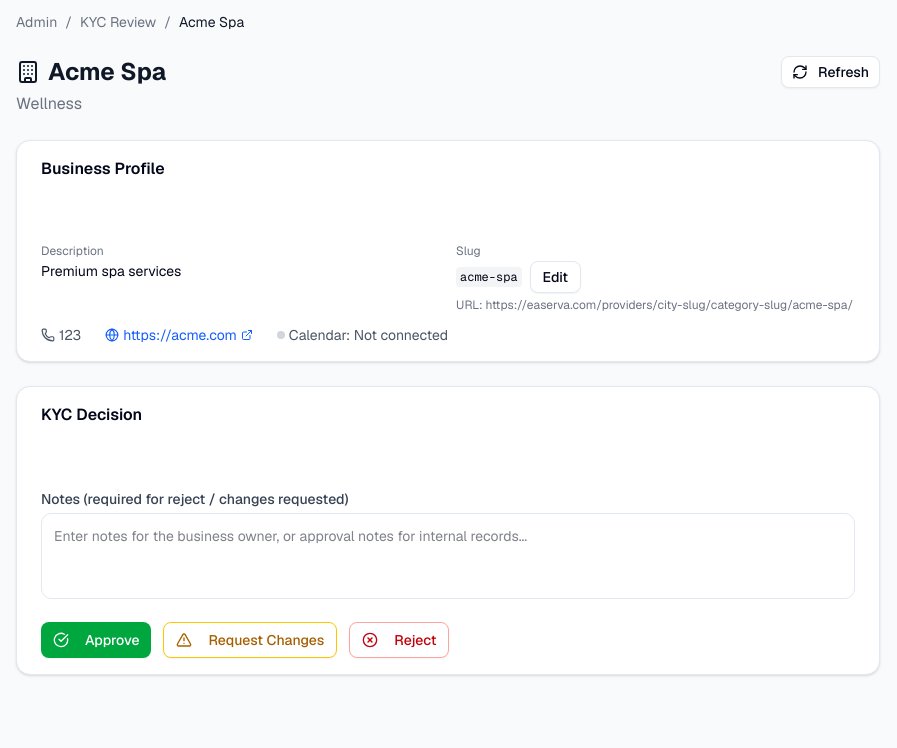
Scenario: KYC detail page › reject with notes posts and shows rejected state
The image size is (897, 748).
Expected: the heading "Acme Spa" is shown, x1=16 y1=56 x2=166 y2=88
Type "Missing licensing doc" into the text box with placeholder "Enter notes" at coordinates (448, 556), box x1=41 y1=513 x2=855 y2=599
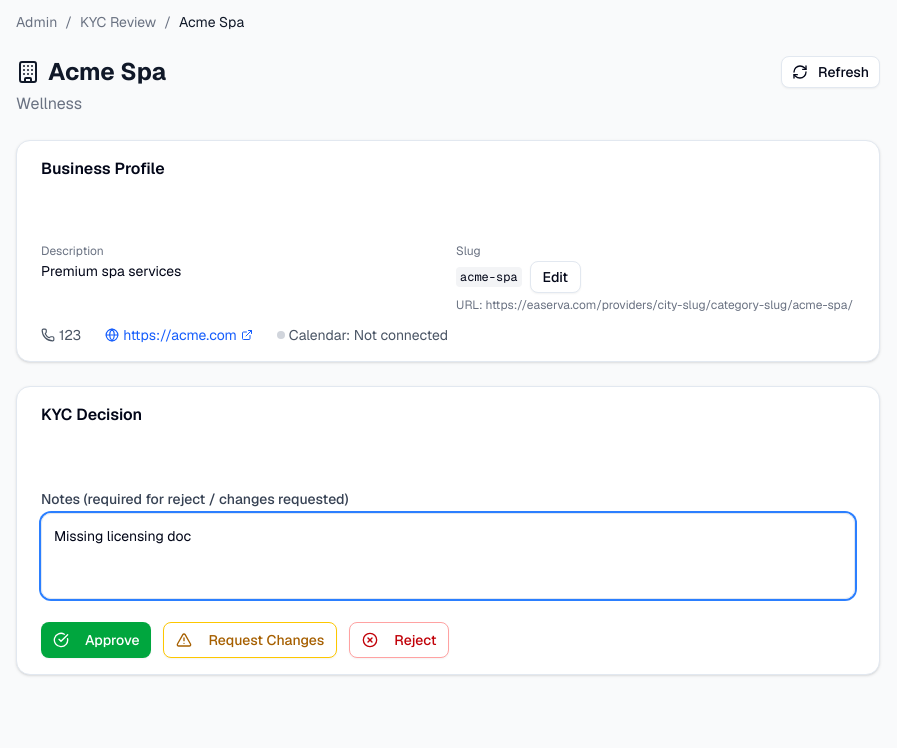
Click the button "Reject" at coordinates (399, 640), box x1=349 y1=622 x2=449 y2=658
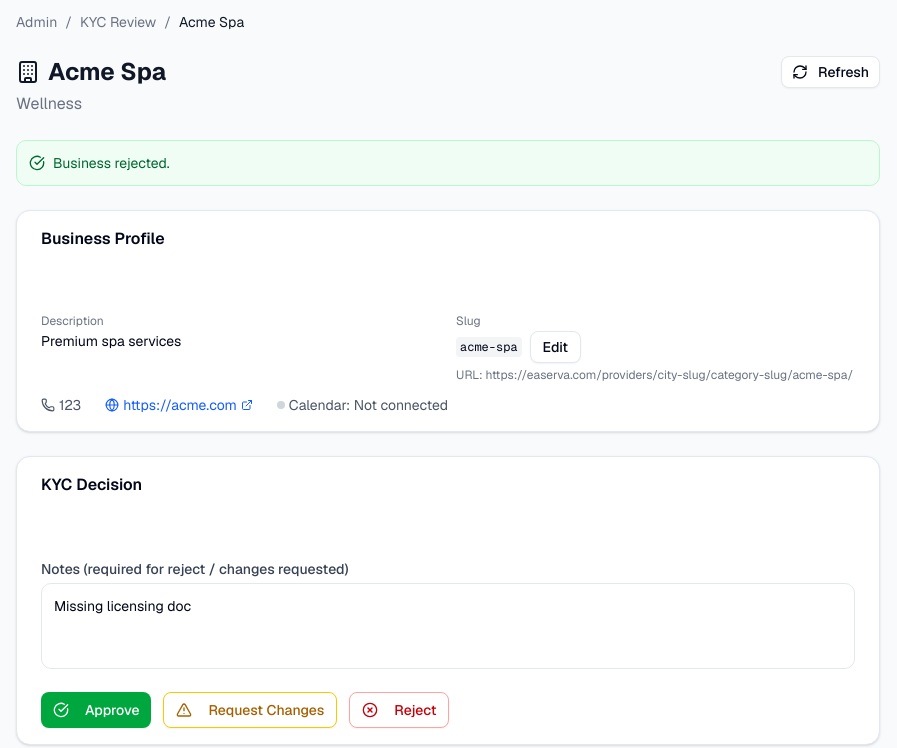
Result: the text "Business rejected." is shown at x1=16 y1=140 x2=880 y2=186
